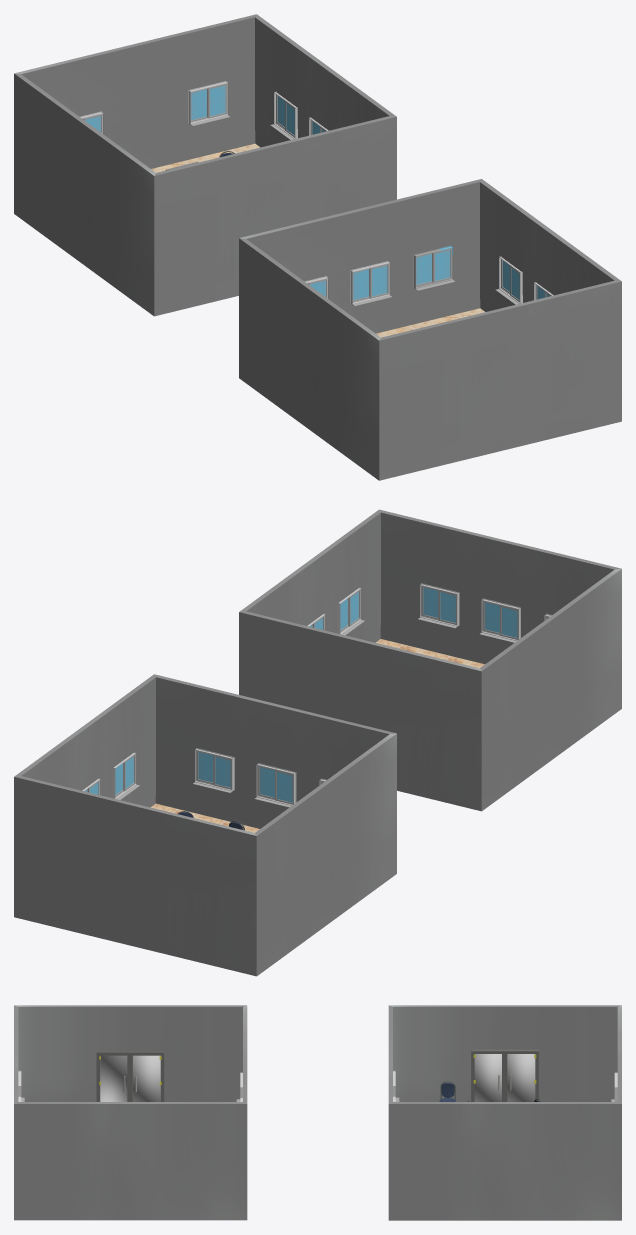
The model's file is Inner-room.fbx.
3 renders of one model, top to bottom at view 1: azimuth 30°, elevation 25°; view 2: azimuth 150°, elevation 25°; view 3: azimuth 270°, elevation 25°, orthographic. The views are drawn at different scales.
Visible parts, largest first — view 1: Wall, Wall.001; view 2: Wall.001, Wall; view 3: Wall, Wall.001, Sides.011, Sides.010, Sides.008, Sides.007, Sides.012, Sides.009.
Boxes of the visible parts, x1,y1,x2,y2 form: Wall: (239, 179, 621, 480); Wall.001: (14, 14, 396, 316); Wall.001: (14, 674, 396, 976); Wall: (239, 509, 621, 811); Wall: (14, 1005, 247, 1220); Wall.001: (388, 1005, 621, 1220); Sides.011: (507, 1054, 535, 1101); Sides.010: (474, 1054, 501, 1101); Sides.008: (133, 1055, 160, 1101); Sides.007: (100, 1055, 127, 1101); Sides.012: (471, 1049, 538, 1101); Sides.009: (96, 1051, 164, 1101).
Size of the model in its own units: 8.08 by 4.47 by 21.05.
